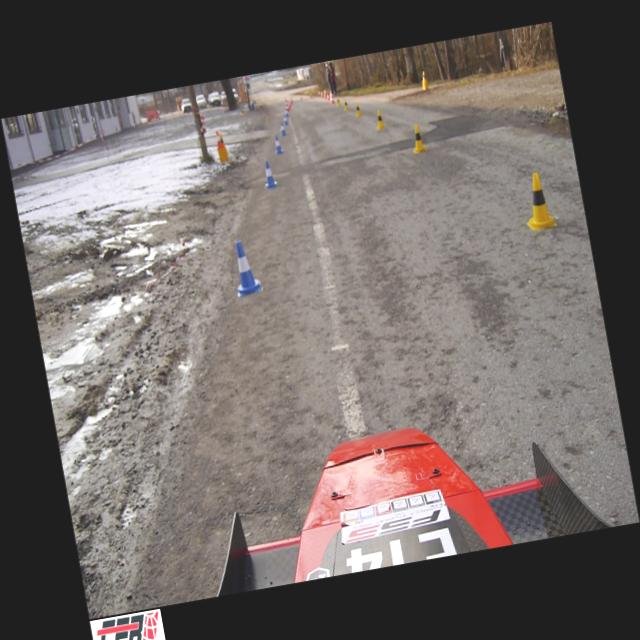blue_cone: (228, 238, 263, 296), (260, 159, 278, 188), (272, 134, 283, 154), (278, 121, 286, 135), (282, 114, 288, 125), (284, 107, 288, 116)
large_orange_cone: (328, 89, 335, 103), (283, 98, 290, 112)
orange_cone: (214, 130, 224, 148), (298, 95, 302, 100), (309, 94, 312, 98)
yellow_cone: (518, 170, 558, 231), (409, 122, 426, 152), (374, 108, 384, 129), (353, 102, 362, 116), (342, 98, 350, 110), (420, 70, 426, 80), (335, 97, 341, 106)
